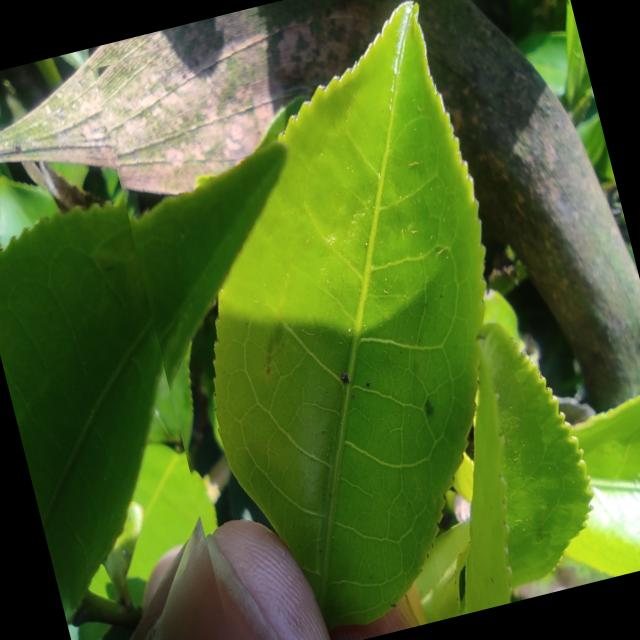Category C 4-7 days: (81, 0, 592, 640)
